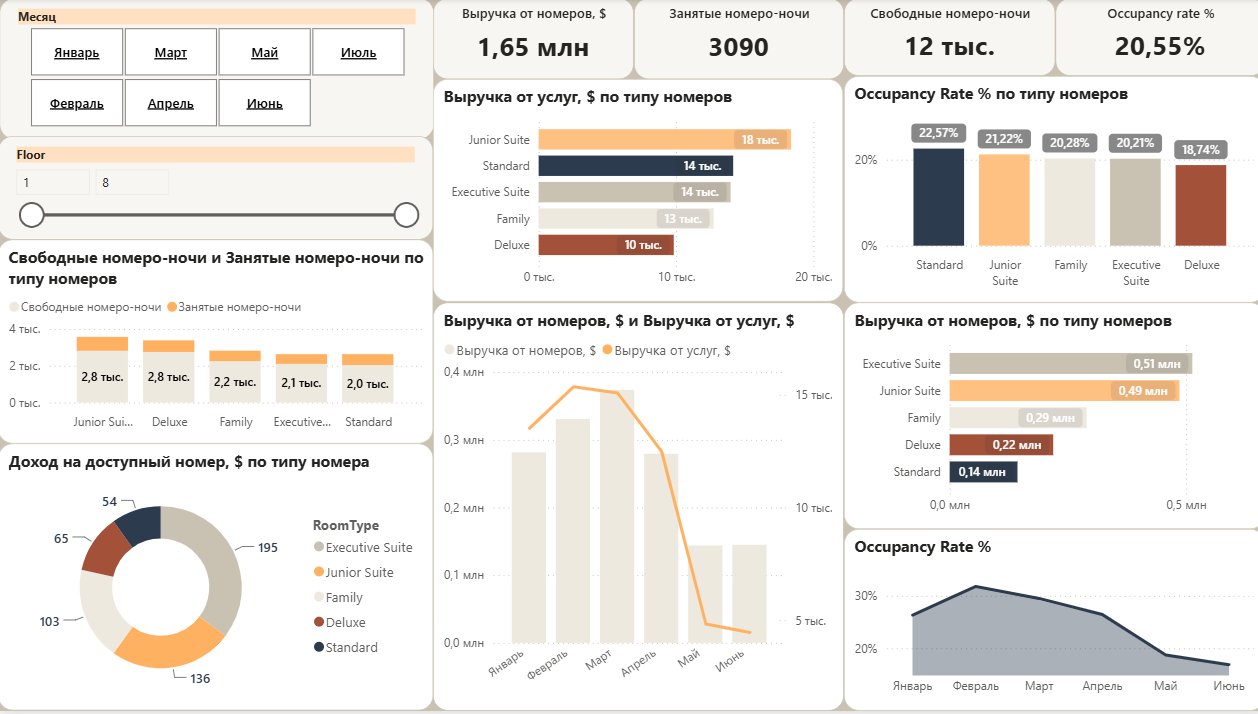

The page's visual inventory and layout, read from the dashboard file:
{"tool":"powerbi","page":{"name":"Отчет по номерам","canvas":[1280,720],"ordinal":1},"visuals":[{"type":"slicer","fields":{"Values":["Calendar.Месяц"]},"box":[1.4,0,438.6,142.4],"z":0},{"type":"card","title":"Occupancy rate %","fields":{"Values":["Таблица мер.Occupancy Rate %"]},"box":[1067.5,0,212,78.7],"z":1000},{"type":"clusteredColumnChart","title":"Occupancy Rate % по типу номеров","fields":{"Category":["Rooms.RoomType"],"Y":["Таблица мер.Occupancy Rate %"]},"box":[854,78.7,425.5,228.6],"z":2000},{"type":"card","title":"Занятые номеро-ночи","fields":{"Values":["Таблица мер.Занятые номеро-ночи"]},"box":[642,0,212,81.8],"z":3000},{"type":"card","title":"Свободные номеро-ночи","fields":{"Values":["Таблица мер.Свободные номеро-ночи"]},"box":[854,0,213.5,78.7],"z":4000},{"type":"donutChart","title":"Доход на доступный номер, $ по типу номера","fields":{"Category":["Rooms.RoomType"],"Y":["Таблица мер.Доход на доступный номер, $"]},"box":[0,449.7,439.1,269.5],"z":5000},{"type":"columnChart","title":"Свободные номеро-ночи и Занятые номеро-ночи по типу номеров","fields":{"Category":["Rooms.RoomType"],"Y":["Таблица мер.Свободные номеро-ночи","Таблица мер.Занятые номеро-ночи"]},"box":[0,243.8,439.1,205.9],"z":6000},{"type":"card","title":"Выручка от номеров, $","fields":{"Values":["Таблица мер.Выручка от номеров (в периоде), $"]},"box":[439.1,0,202.9,81.8],"z":7000},{"type":"clusteredBarChart","title":"Выручка от услуг, $ по типу номеров","fields":{"Category":["Rooms.RoomType"],"Y":["Таблица мер.Выручка от услуг, $"]},"box":[439.4,82.4,414.3,224.5],"z":8000},{"type":"slicer","fields":{"Values":["Rooms.Floor"]},"box":[0,139.3,439.1,104.5],"z":9000},{"type":"clusteredBarChart","title":"Выручка от номеров, $ по типу номеров","fields":{"Category":["Rooms.RoomType"],"Y":["Таблица мер.Выручка от номеров, $"]},"box":[854,307.4,425.5,228.6],"z":10000},{"type":"stackedAreaChart","title":"Occupancy Rate %","fields":{"Category":["Calendar.Месяц"],"Y":["Таблица мер.Occupancy Rate %"]},"box":[854,536,425.5,183.2],"z":11000},{"type":"lineStackedColumnComboChart","title":"Выручка от номеров, $ и Выручка от услуг, $ ","fields":{"Category":["Calendar.Месяц"],"Y":["Таблица мер.Выручка от номеров, $"],"Y2":["Таблица мер.Выручка от услуг, $"]},"box":[439.1,307.4,414.9,411.9],"z":12000}]}

Visuals, with their boxes in screenshot pixels (x1, y1, x2, y2), scaled from the page's 1280x720 canvas onto the 1258x714 screenshot:
slicer - Calendar.Месяц: (left=1, top=0, right=432, bottom=141)
"Occupancy rate %" card: (left=1049, top=0, right=1257, bottom=78)
"Occupancy Rate % по типу номеров" clusteredColumnChart: (left=839, top=78, right=1257, bottom=305)
"Занятые номеро-ночи" card: (left=631, top=0, right=839, bottom=81)
"Свободные номеро-ночи" card: (left=839, top=0, right=1049, bottom=78)
"Доход на доступный номер, $ по типу номера" donutChart: (left=0, top=446, right=432, bottom=713)
"Свободные номеро-ночи и Занятые номеро-ночи по типу номеров" columnChart: (left=0, top=242, right=432, bottom=446)
"Выручка от номеров, $" card: (left=432, top=0, right=631, bottom=81)
"Выручка от услуг, $ по типу номеров" clusteredBarChart: (left=432, top=82, right=839, bottom=304)
slicer - Rooms.Floor: (left=0, top=138, right=432, bottom=242)
"Выручка от номеров, $ по типу номеров" clusteredBarChart: (left=839, top=305, right=1257, bottom=532)
"Occupancy Rate %" stackedAreaChart: (left=839, top=532, right=1257, bottom=713)
"Выручка от номеров, $ и Выручка от услуг, $ " lineStackedColumnComboChart: (left=432, top=305, right=839, bottom=713)
